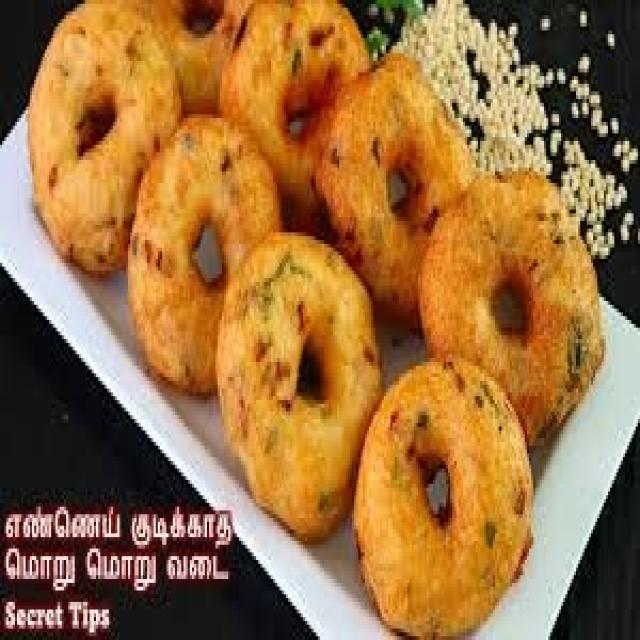medu vadai: (216, 229, 383, 539), (418, 171, 604, 446), (352, 358, 531, 636), (312, 54, 477, 326), (127, 114, 279, 398), (28, 3, 184, 275), (220, 0, 369, 230), (124, 0, 242, 116)
